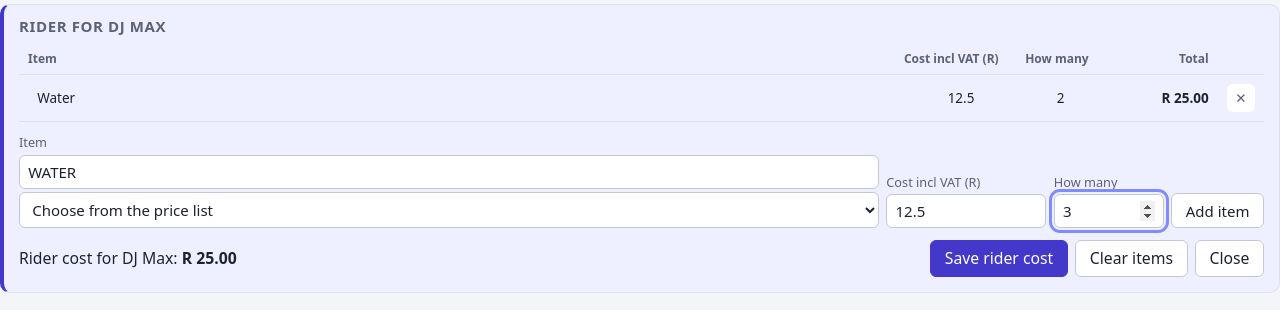
Test: adding items › adds up the quantity when the same item at the same cost is added again
The width and height of the screenshot is (1280, 310).
Earlier steps of the test are not shown.
Click the button "Add item" at (1218, 211), box [1171,193,1264,228]
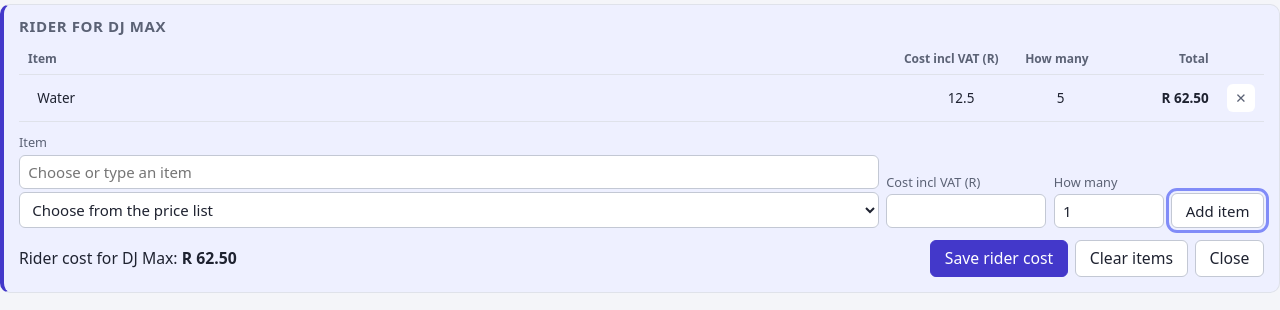
Now the number field named "How many Water" holds "5", box [1017,82,1089,114]
